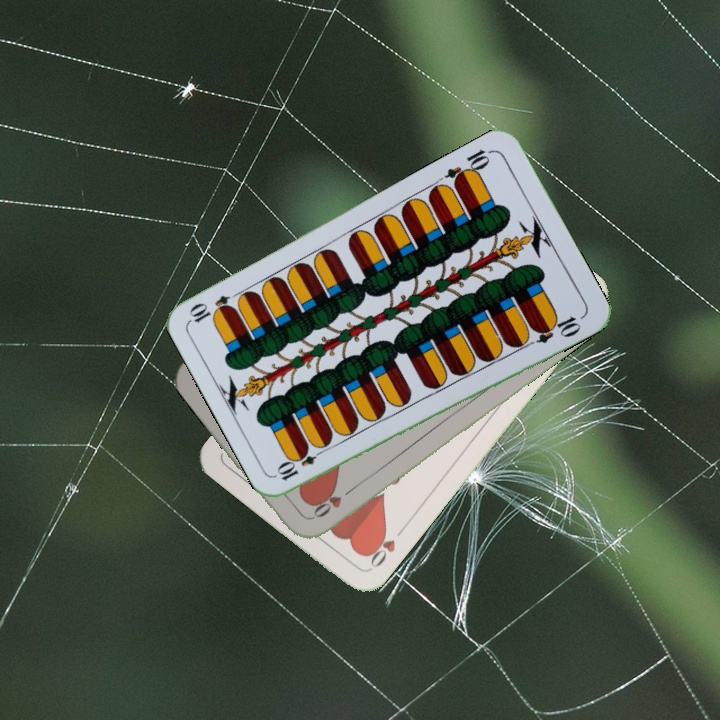E10: (441, 145, 496, 189), (273, 443, 329, 484)
HO: (362, 522, 408, 571), (305, 483, 357, 523)
